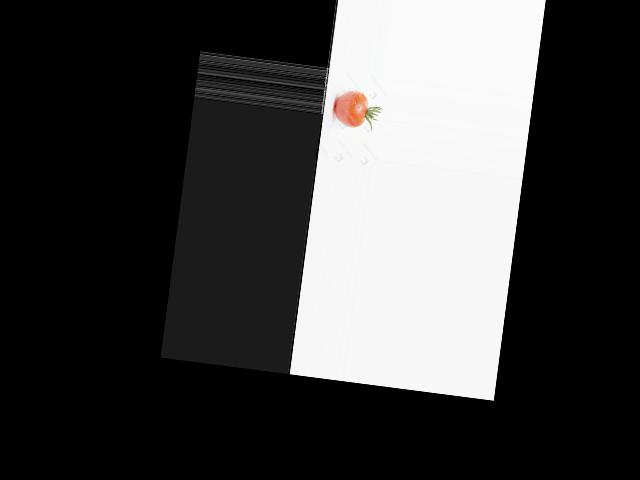tomato: (331, 89, 368, 129)
